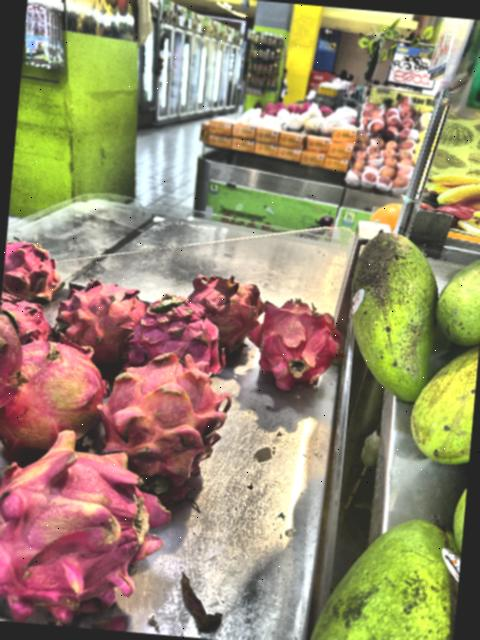buah-naga-belum-matang: (0, 423, 178, 623), (99, 334, 252, 499), (0, 325, 127, 454), (51, 271, 150, 373)
buah-naga-matang: (125, 290, 228, 381), (250, 296, 334, 391), (188, 270, 262, 342), (2, 229, 70, 307), (0, 293, 53, 347)
